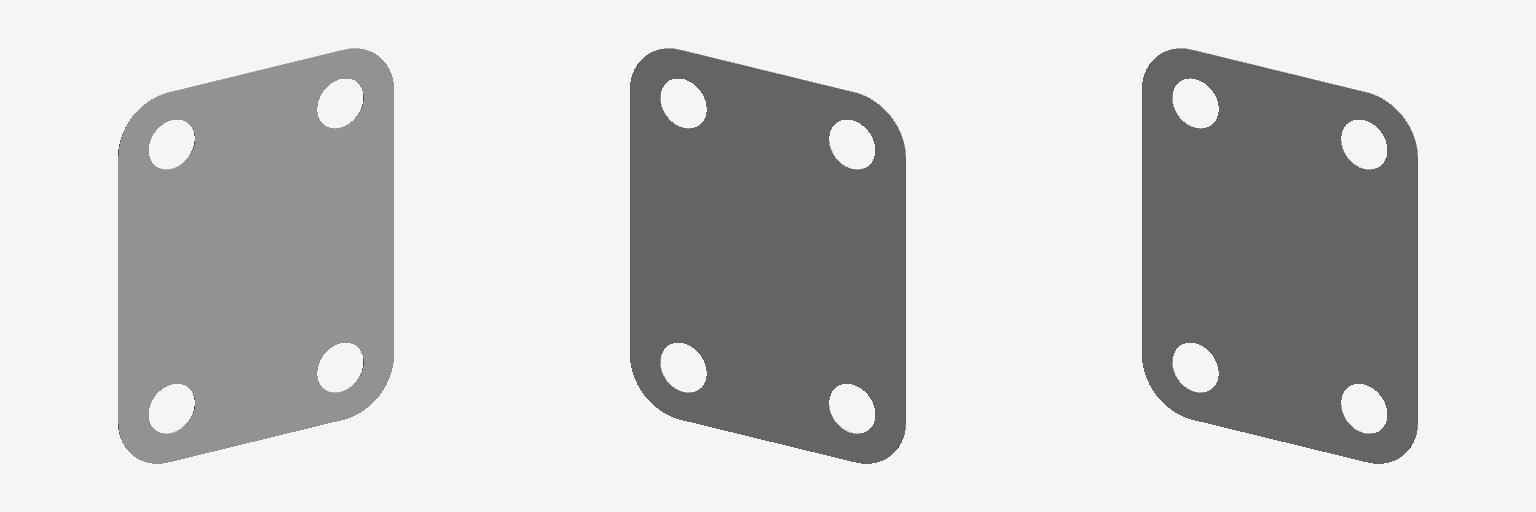
The model's file is fixture_mount_surface.obj.
The picture shows the model from 3 angles: view 1: azimuth 30°, elevation 25°; view 2: azimuth 150°, elevation 25°; view 3: azimuth 330°, elevation 25°; orthographic projection.
Visible parts, largest first — view 1: Body1; view 2: Body1; view 3: Body1.
Part boxes in pixels (left/top/right/bottom): Body1: left=118, top=48, right=393, bottom=463; Body1: left=630, top=48, right=905, bottom=463; Body1: left=1142, top=48, right=1417, bottom=463.
Bounding box in the file's own units: 26 × 33.3 × 0.1.